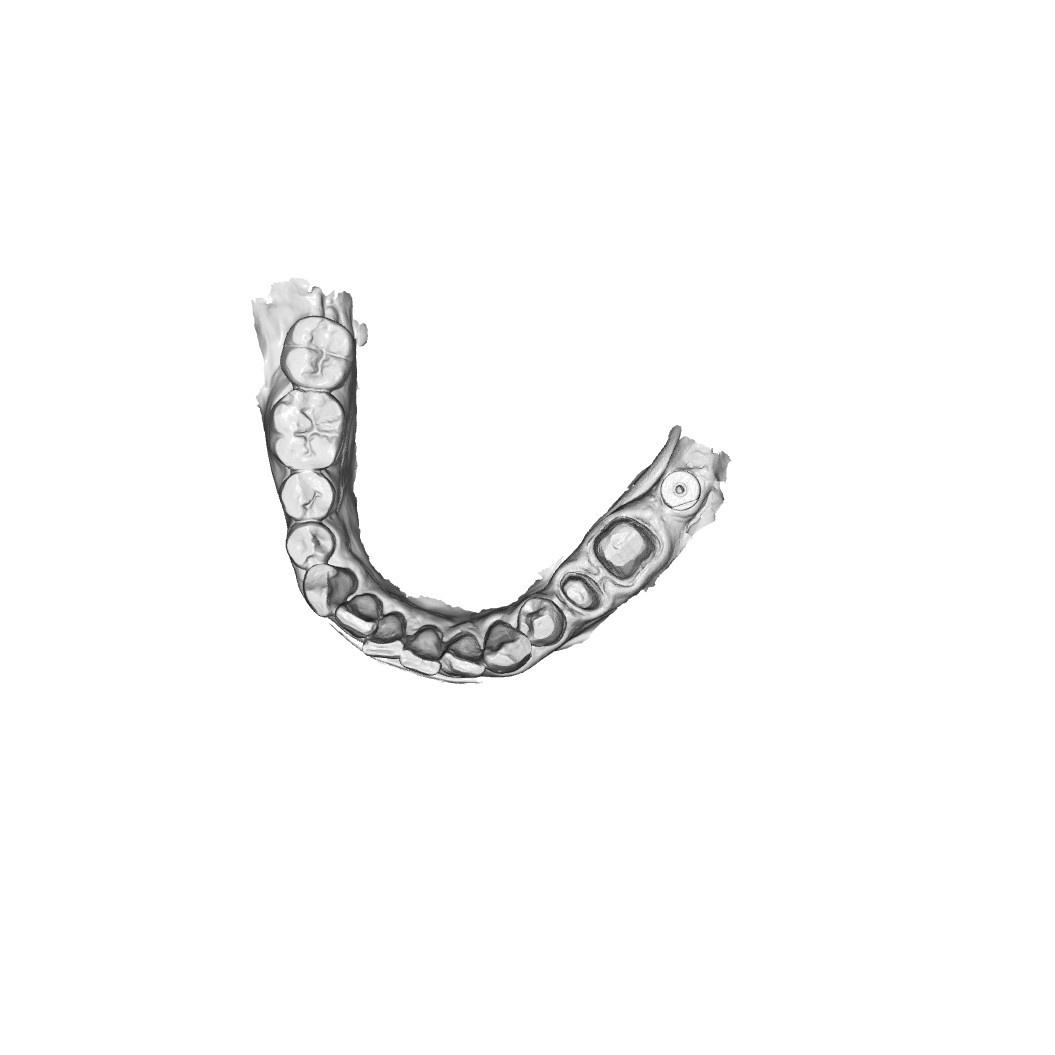canine: (303, 565, 354, 614), (488, 622, 532, 667)
crown: (596, 513, 657, 577), (563, 576, 602, 613)
implant: (659, 465, 701, 516)
incisor: (442, 632, 486, 678), (361, 613, 404, 656), (339, 590, 384, 631), (401, 625, 441, 670)
molar: (270, 387, 348, 470), (285, 316, 349, 388)
premolar: (280, 473, 333, 521), (286, 520, 339, 568), (518, 602, 564, 647)
